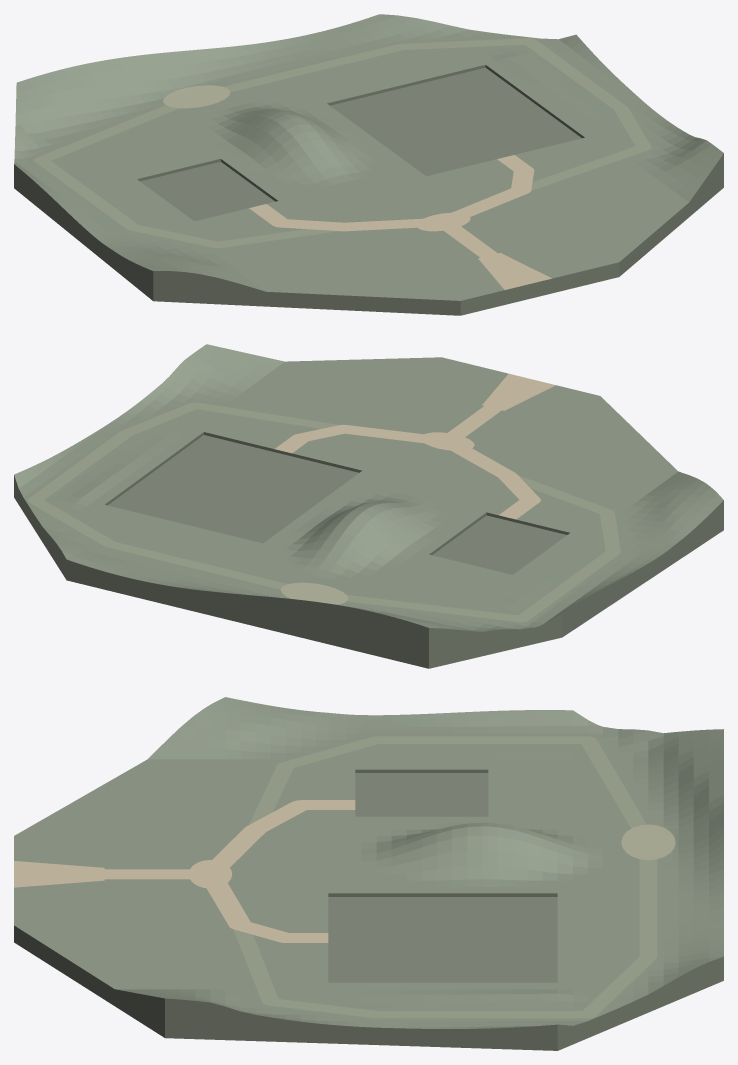
Rendered from environment.glb.
The picture shows the model from 3 angles, top to bottom: view 1: azimuth 30°, elevation 25°; view 2: azimuth 150°, elevation 25°; view 3: azimuth 270°, elevation 25°; orthographic projection. The views are drawn at different scales.
Visible parts, largest first — view 1: SD02 original landscape with support sockets; view 2: SD02 original landscape with support sockets; view 3: SD02 original landscape with support sockets.
Boxes of the visible parts, x1,y1,x2,y2 form: SD02 original landscape with support sockets: (14, 14, 723, 315); SD02 original landscape with support sockets: (14, 344, 723, 668); SD02 original landscape with support sockets: (14, 697, 723, 1050).
Bounding box in the file's own units: 50 × 3.65 × 47.
